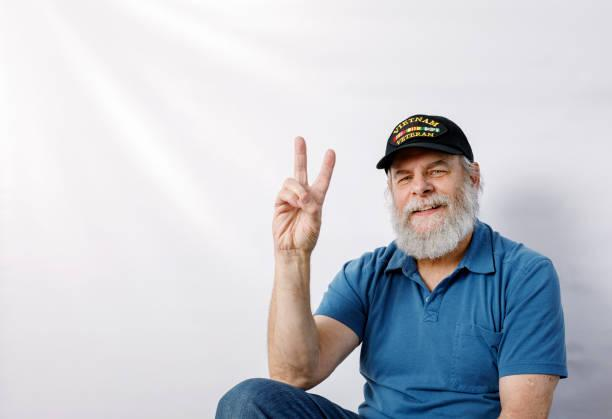peace_sign: (263, 129, 339, 253)
